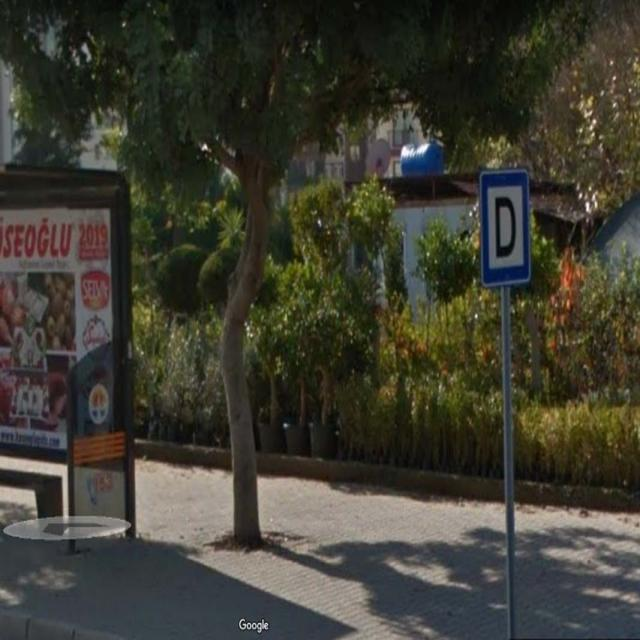durak: (480, 169, 530, 283)
